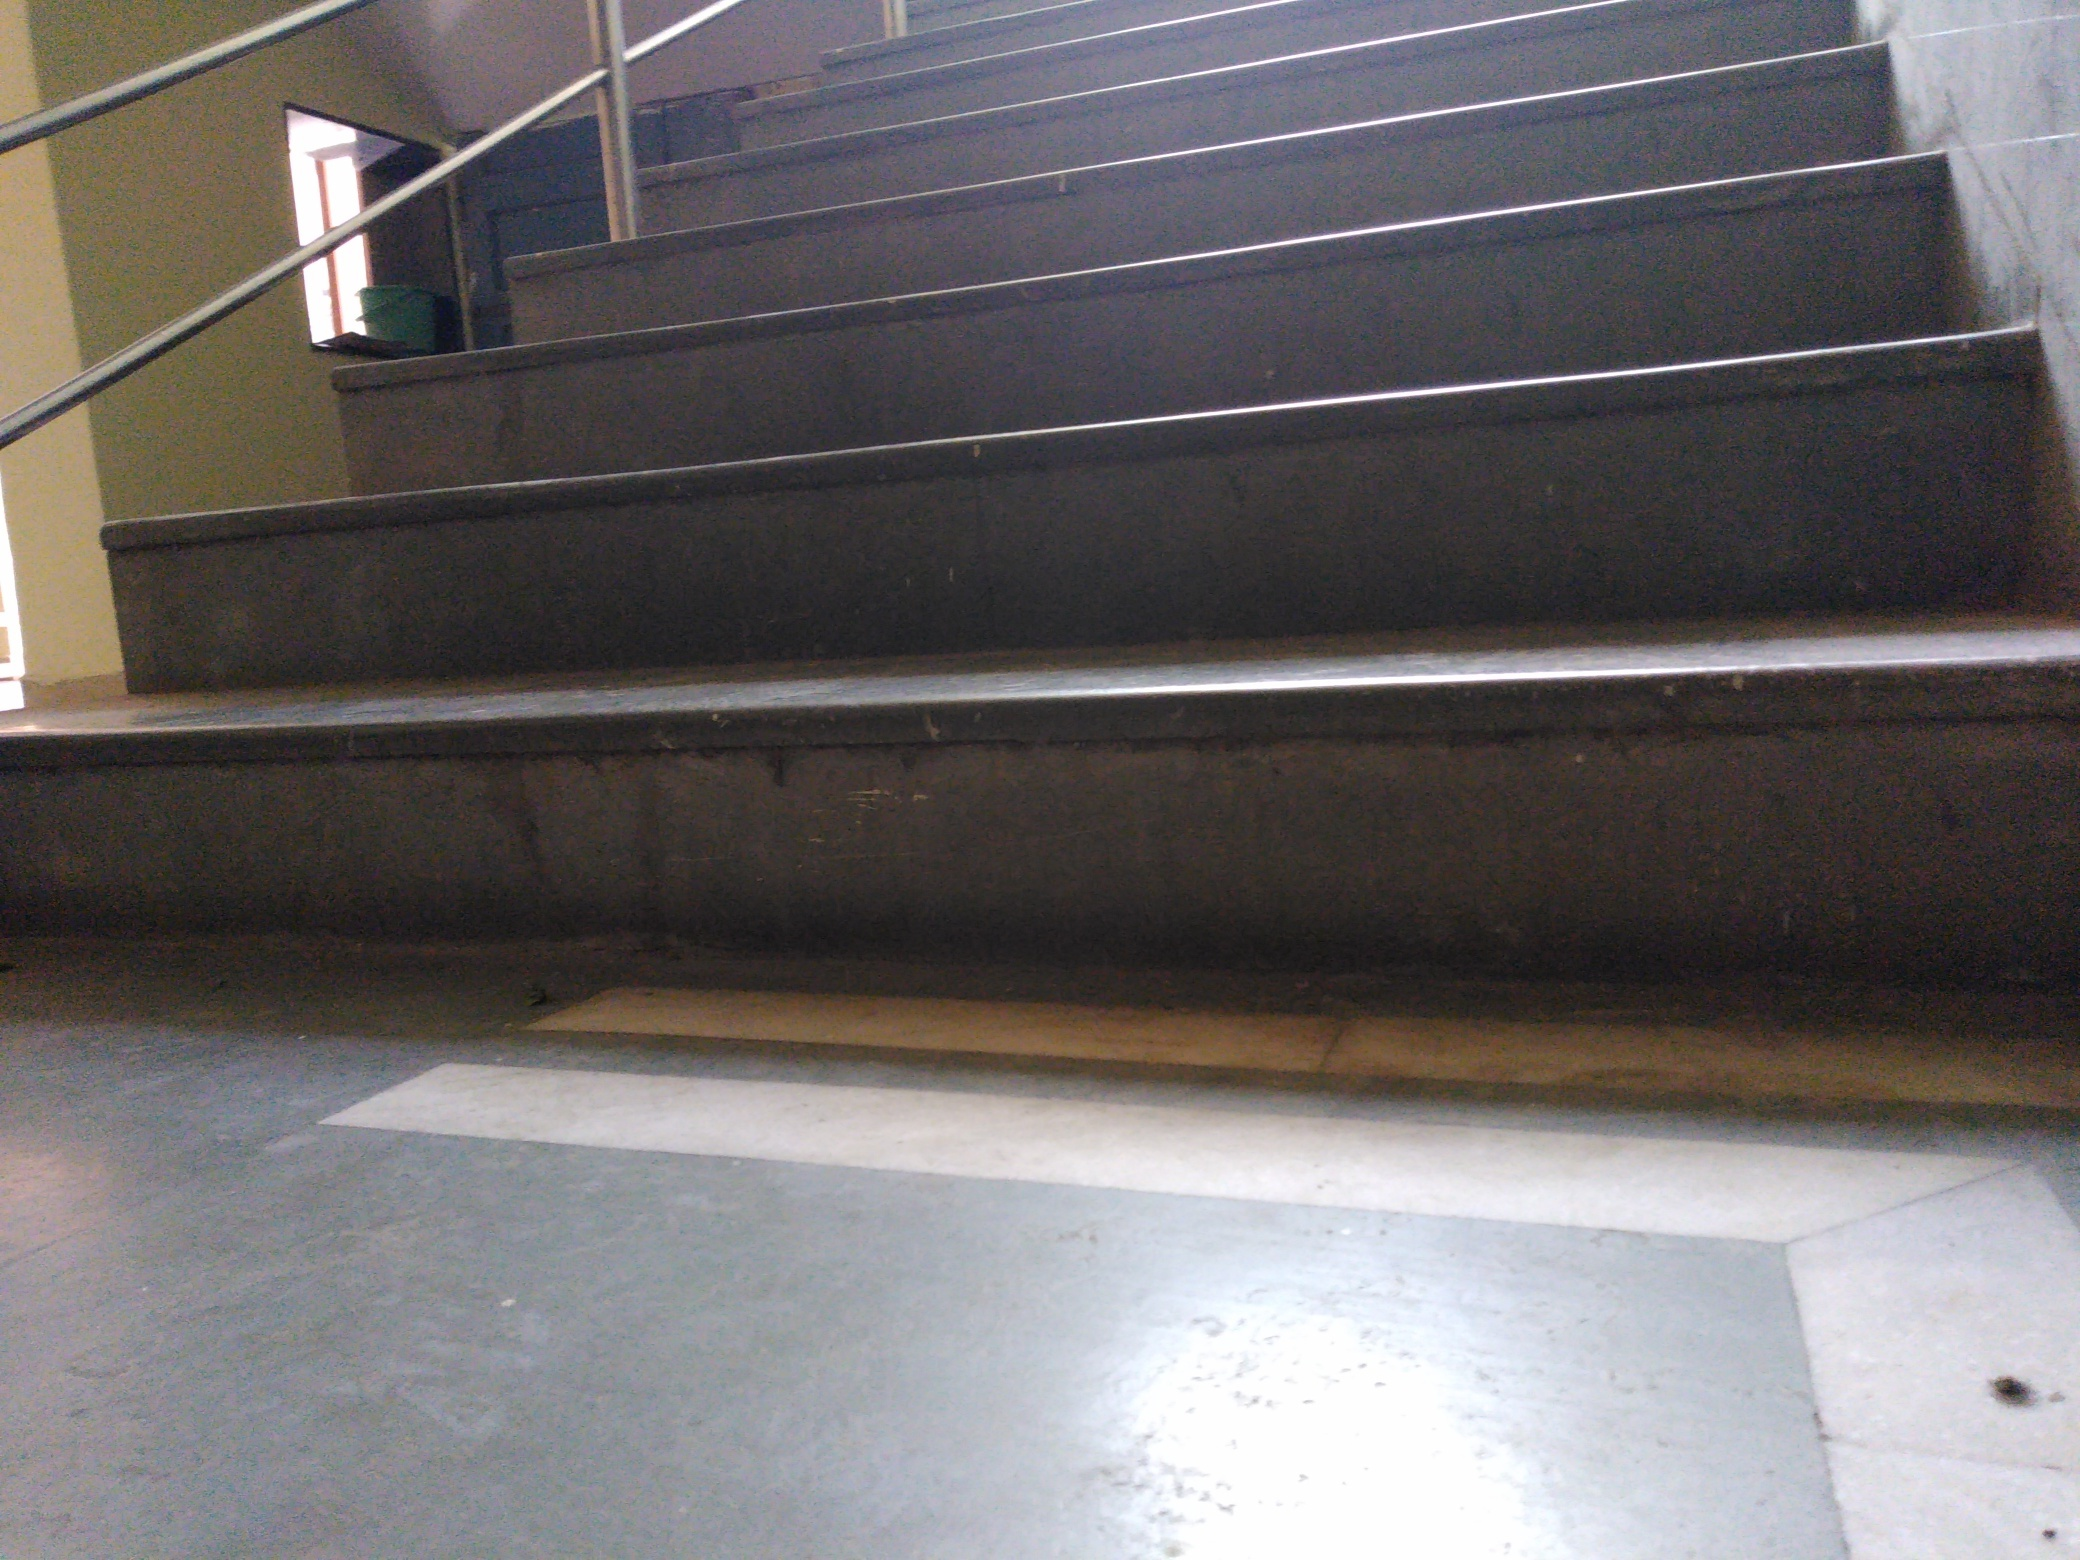stairs_up: (61, 25, 1924, 977)
